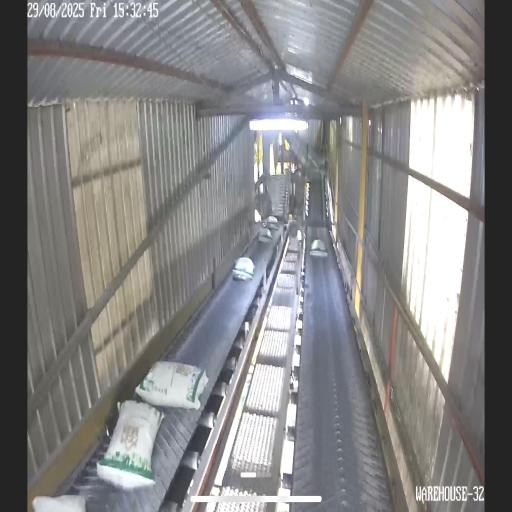c-belt-sack-count: (97, 400, 163, 489), (136, 361, 208, 409)
